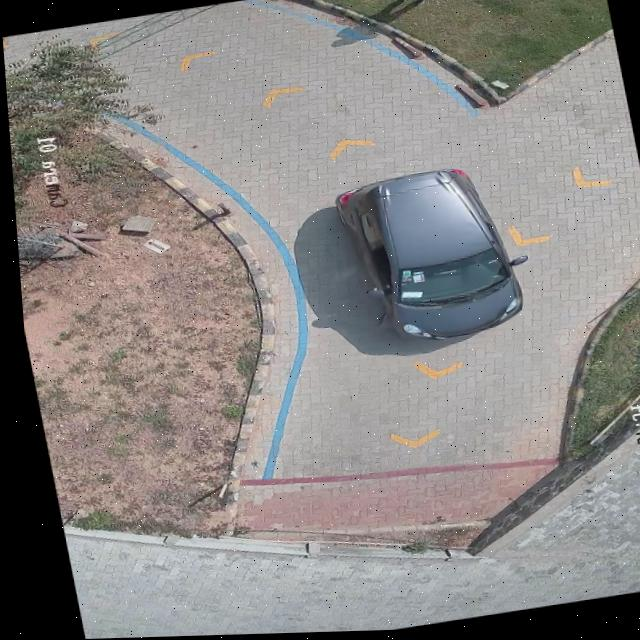car: (330, 172, 520, 343)
